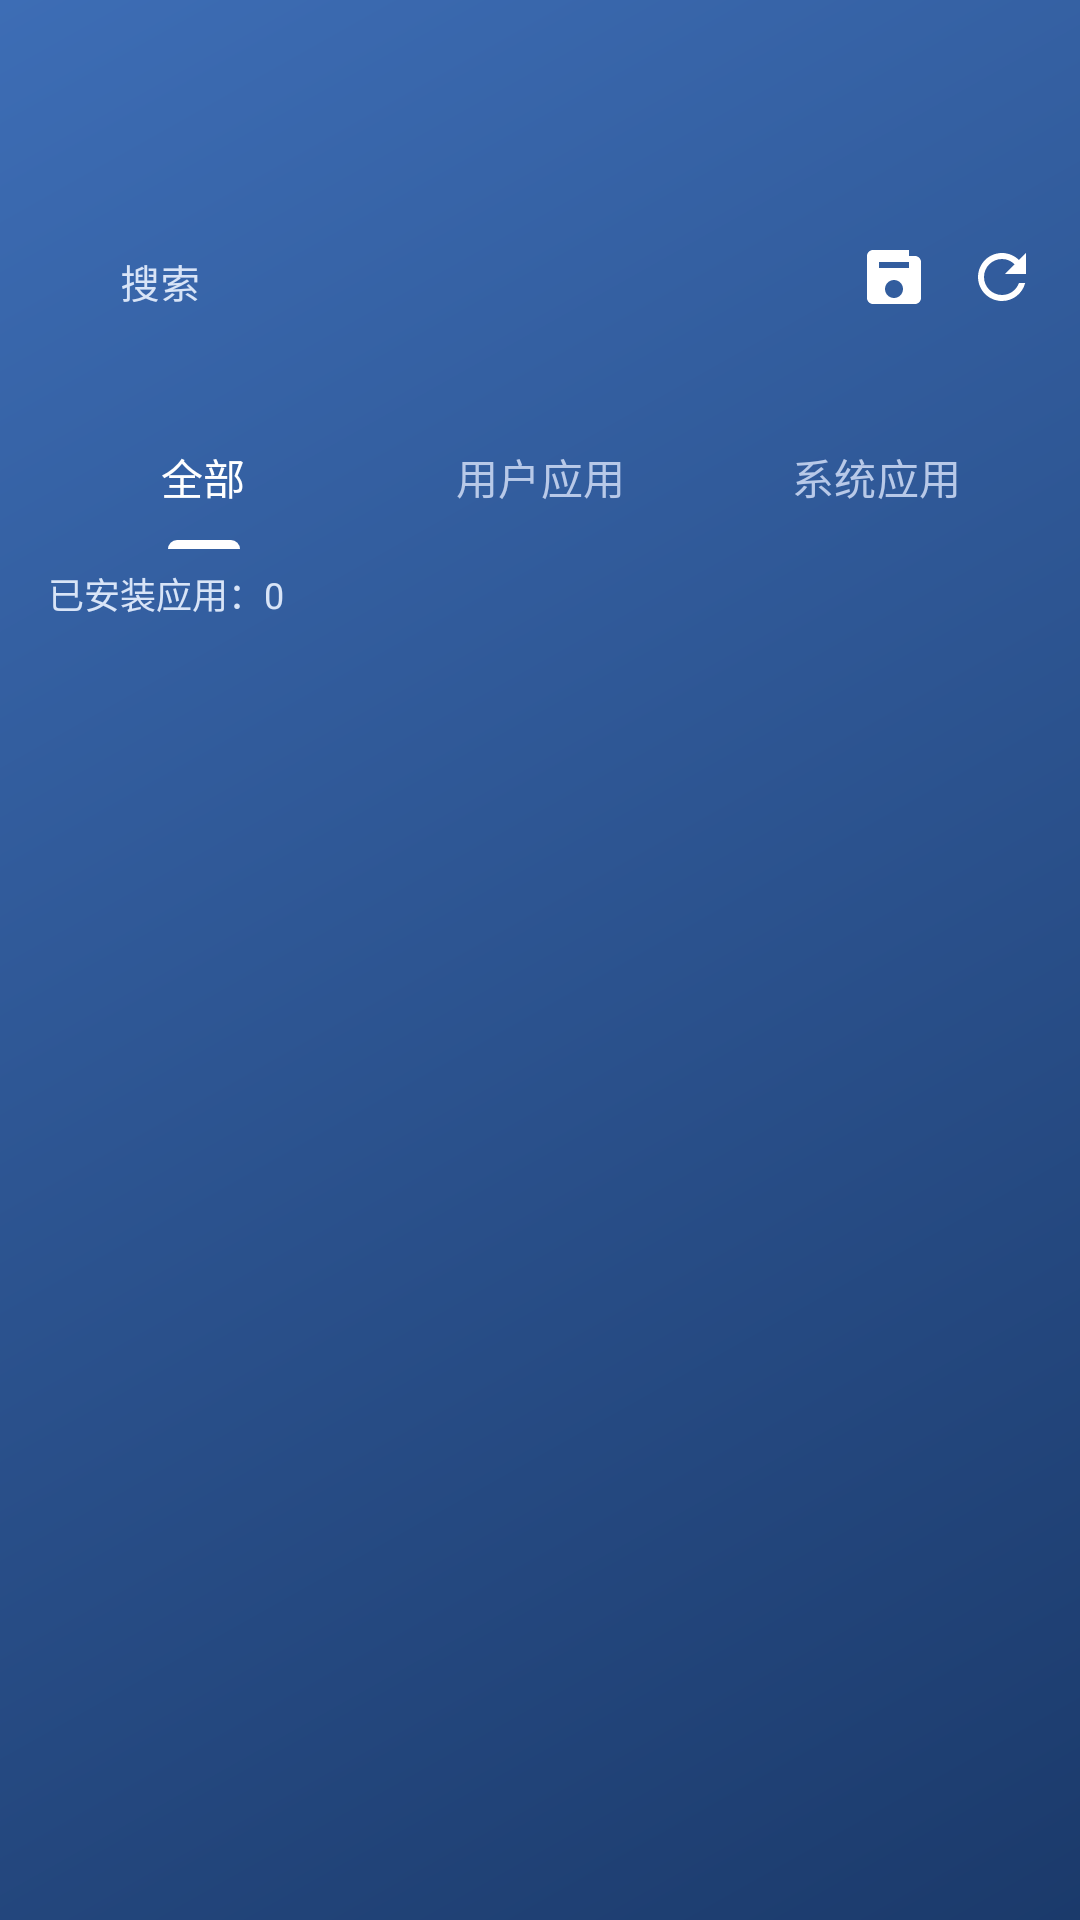

Icons on this 1080px×1920px Android screen, each with the point to tap as [x,y]:
备份数据: [894,277]
恢复数据: [1002,277]
